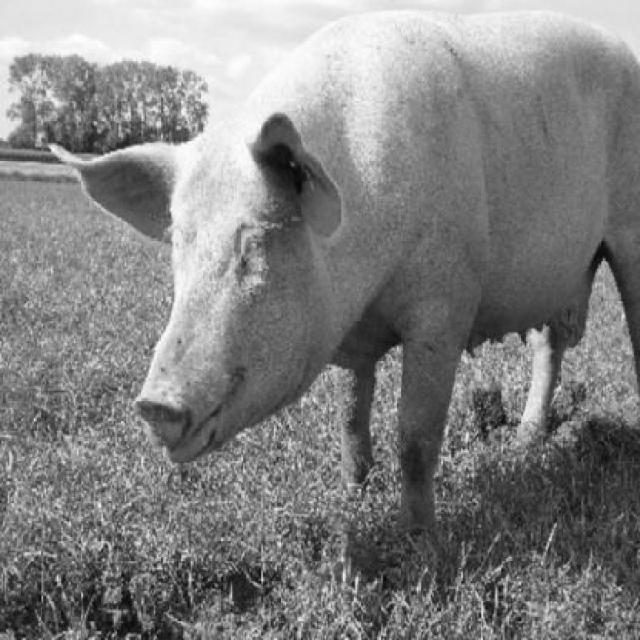Boar: (44, 6, 638, 540)
